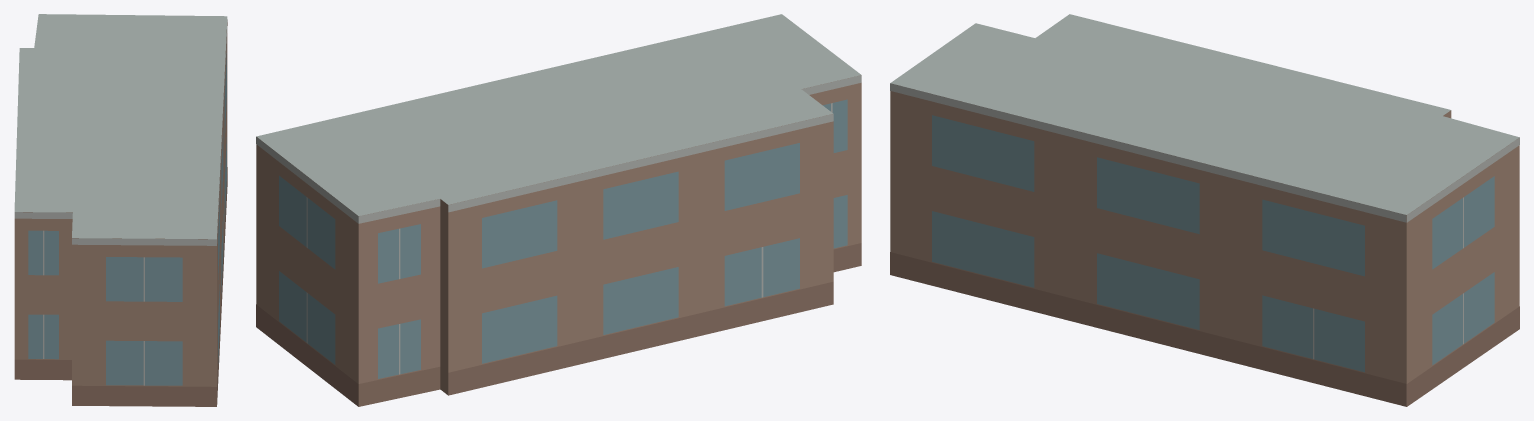
Rendered from survey-upis-32778601.glb.
3 renders of one model, left to right at view 1: azimuth 30°, elevation 25°; view 2: azimuth 150°, elevation 25°; view 3: azimuth 270°, elevation 25°, orthographic. The views are drawn at different scales.
Visible parts, largest first — view 1: survey-upis-32778601.tmp; view 2: survey-upis-32778601.tmp; view 3: survey-upis-32778601.tmp.
Boxes of the visible parts, box(x1,y1,x2,y2) form: survey-upis-32778601.tmp: box(14, 14, 227, 406); survey-upis-32778601.tmp: box(256, 14, 861, 406); survey-upis-32778601.tmp: box(890, 14, 1519, 406).
Size of the model in its own units: 13.73 by 6.1 by 18.16.
